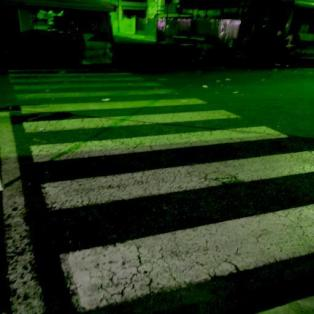Paso de Cebra: (16, 107, 314, 167)
